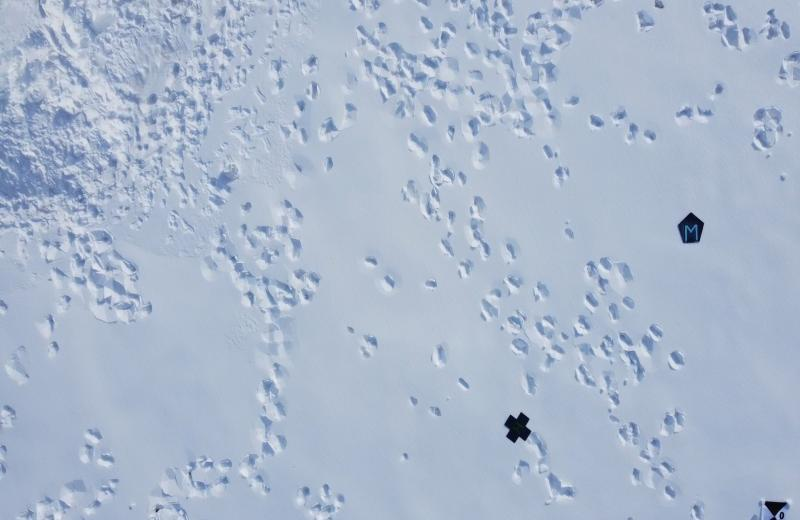Cross: (502, 409, 534, 444)
Pentagon: (673, 210, 705, 248)
